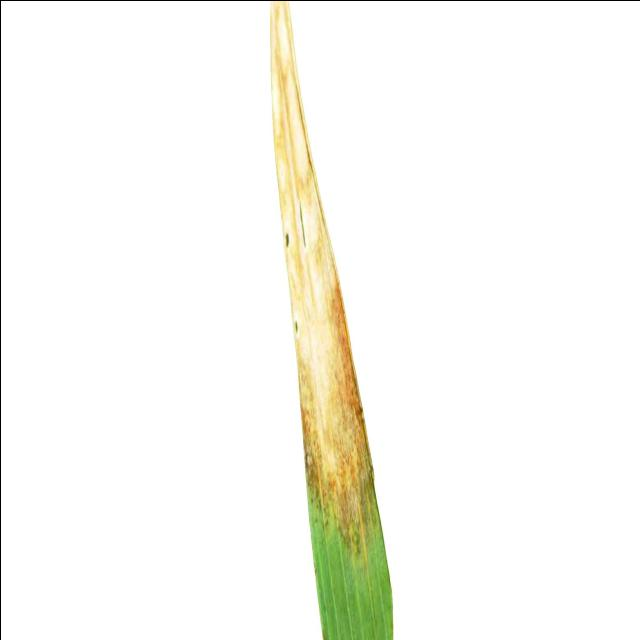Leaf scald: (176, 0, 438, 640)
